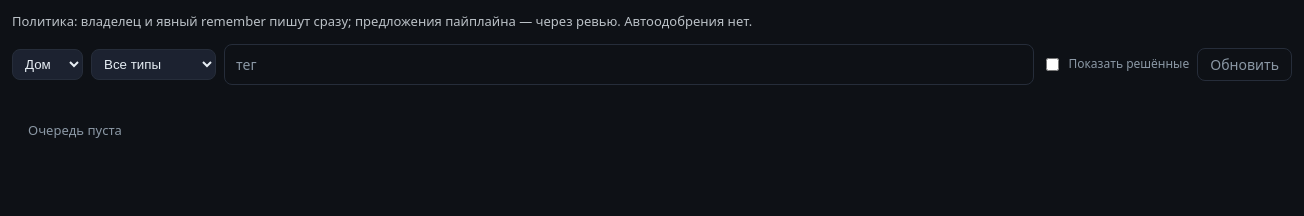
Test: MemoryReviewQueue › shows only accepted decisions when the toggle is on
Click the checkbox with test id "memory-review-decided-toggle": (1053, 64) [1046,58,1060,70]
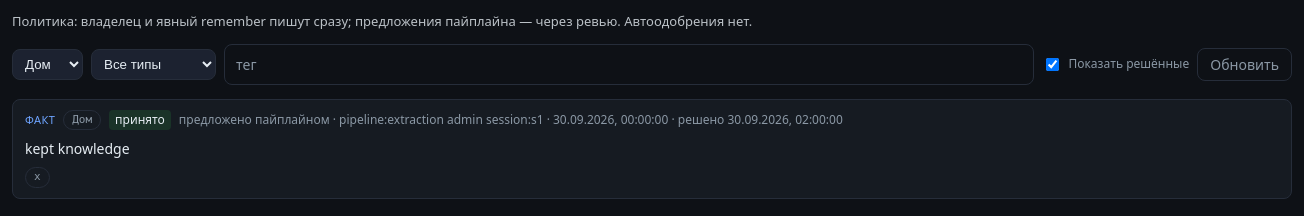
Check: the text "kept knowledge" is shown, box [25,139,130,158]
Check: the list item with test id "memory-review-row:p-2" shows "принято", box [115,111,165,128]
